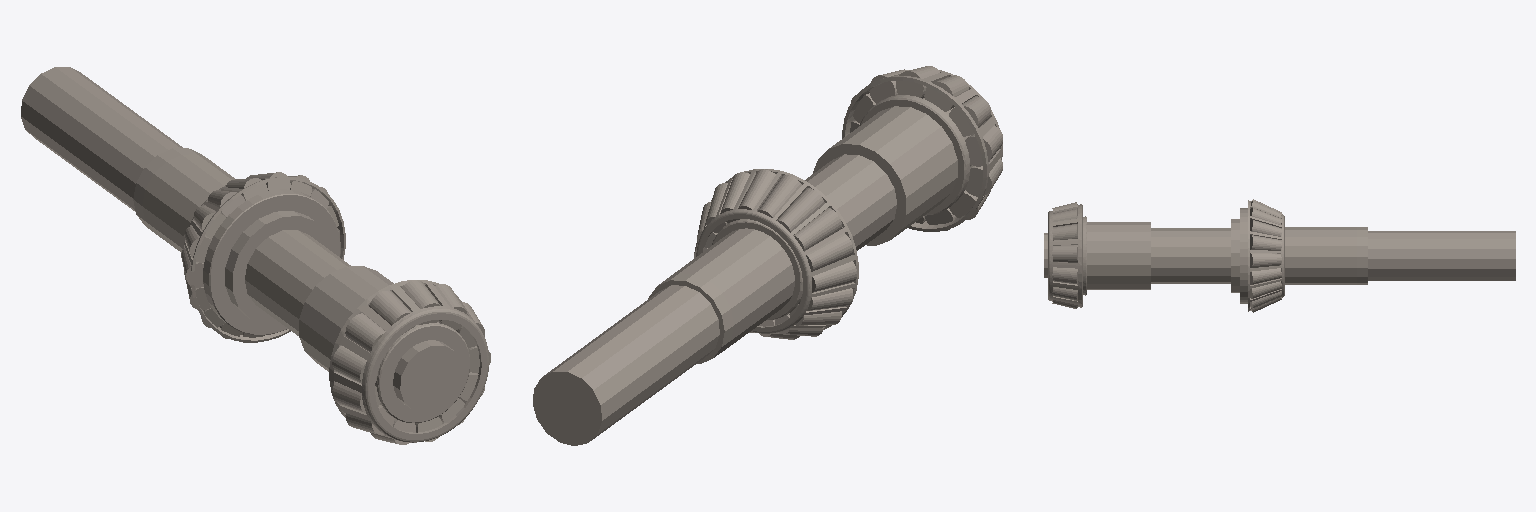
The robot description file, URDF, robot "longer_shaft":
<?xml version="1.0" encoding="utf-8"?>
<!-- This URDF was automatically created by SolidWorks to URDF Exporter! Originally created by [author] ([email redacted]) 
     Commit Version: 1.6.0-1-g15f4949  Build Version: 1.6.7594.29634
     For more information, please see http://wiki.ros.org/sw_urdf_exporter -->
<robot
  name="longer_shaft">
  <link
    name="base_link">
    <inertial>
      <origin
        xyz="-5.8146E-11 0.086398 1.5248E-10"
        rpy="0 0 0" />
      <mass
        value="0.99207" />
      <inertia
        ixx="0.0024901"
        ixy="2.4984E-13"
        ixz="1.111E-11"
        iyy="8.6863E-05"
        iyz="-9.4419E-13"
        izz="0.0024901" />
    </inertial>
    <visual>
      <origin
        xyz="0 0 0"
        rpy="0 0 0" />
      <geometry>
        <mesh
          filename="package://longer_shaft/meshes/base_link.STL" />
      </geometry>
      <material
        name="">
        <color
          rgba="0.65098 0.61961 0.58824 1" />
      </material>
    </visual>
    <collision>
      <origin
        xyz="0 0 0"
        rpy="0 0 0" />
      <geometry>
        <mesh
          filename="package://longer_shaft/meshes/base_link.STL" />
      </geometry>
    </collision>
  </link>
</robot>

--- Render facts (derived) ---
3 views of the same robot in one strip: view 1: azimuth 30°, elevation 25°; view 2: azimuth 150°, elevation 25°; view 3: azimuth 270°, elevation 25° (orthographic).
Model longer_shaft with 1 links and 0 joints (none), rooted at base_link, posed every joint at zero.
Links seen in each view (by area): view 1: base_link; view 2: base_link; view 3: base_link.
Link boxes in pixels (x1,y1,x2,y2): base_link: (21, 67, 490, 444); base_link: (533, 66, 1002, 445); base_link: (1044, 199, 1515, 312).
Bounding box of the posed robot: 0.0498 × 0.205 × 0.0492 m (x, y, z).
Meshes: 1 distinct files referenced, 1 mesh visuals loaded (1 binary STL).